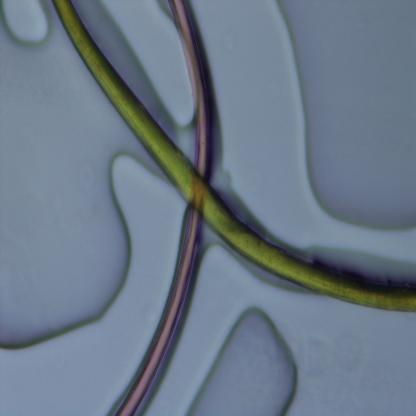Air bubble: (276, 0, 416, 246), (0, 146, 156, 356), (184, 302, 304, 414), (102, 2, 193, 128), (0, 0, 53, 45)
Microfibre: (52, 0, 416, 314), (114, 0, 209, 415)
